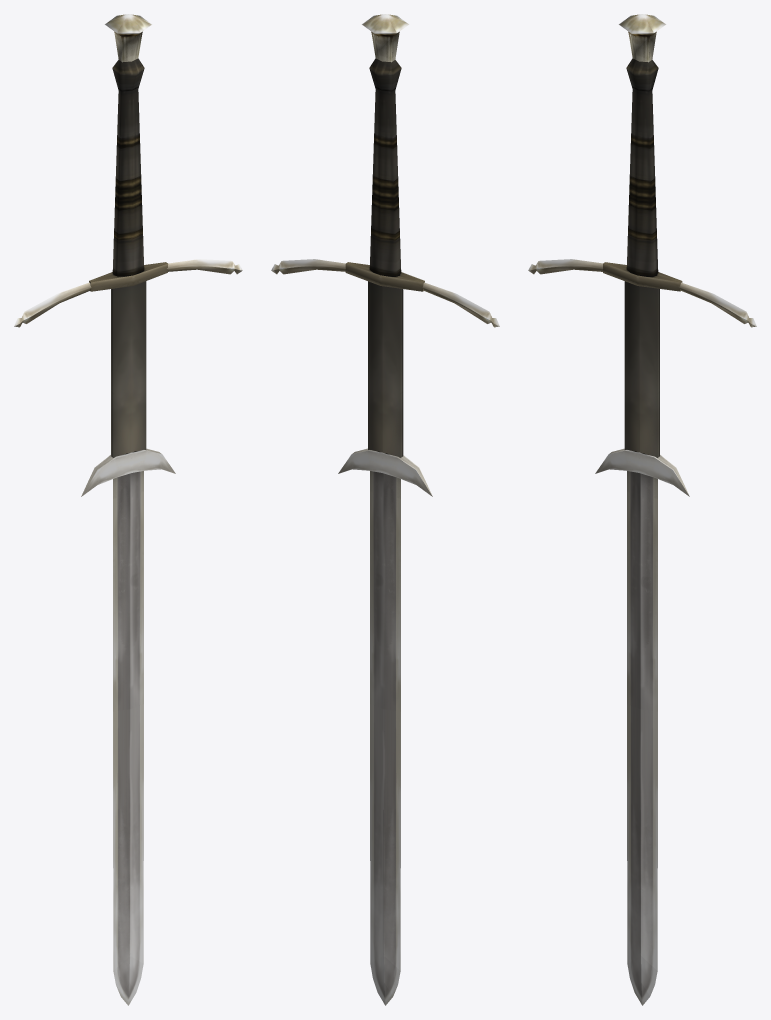
Rendered from greatsword.FBX.
3 views of the same model, side by side, from view 1: azimuth 30°, elevation 25°; view 2: azimuth 150°, elevation 25°; view 3: azimuth 330°, elevation 25° (orthographic).
Parts seen in each view (by area): view 1: greatsword; view 2: greatsword; view 3: greatsword.
Part boxes in pixels (<box>): greatsword: <box>14,14,242,1005</box>; greatsword: <box>271,14,499,1005</box>; greatsword: <box>528,14,756,1005</box>.
Size of the model in its own units: 21.27 by 88.13 by 3.81.
